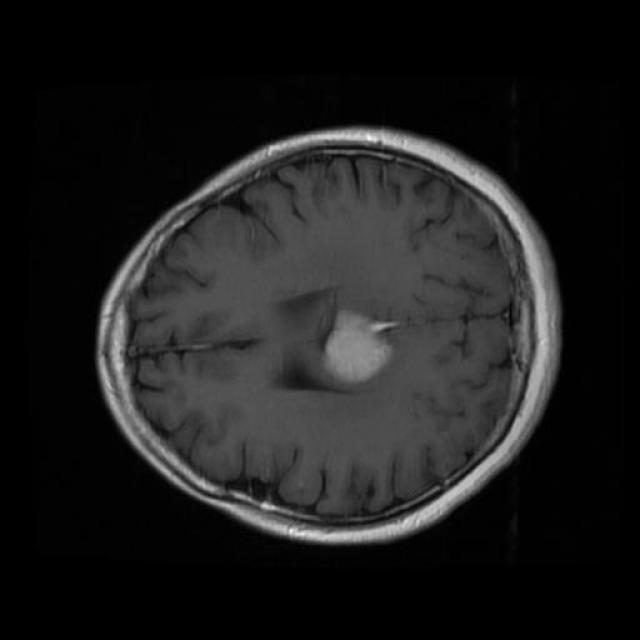Meningioma: (323, 310, 392, 384)
